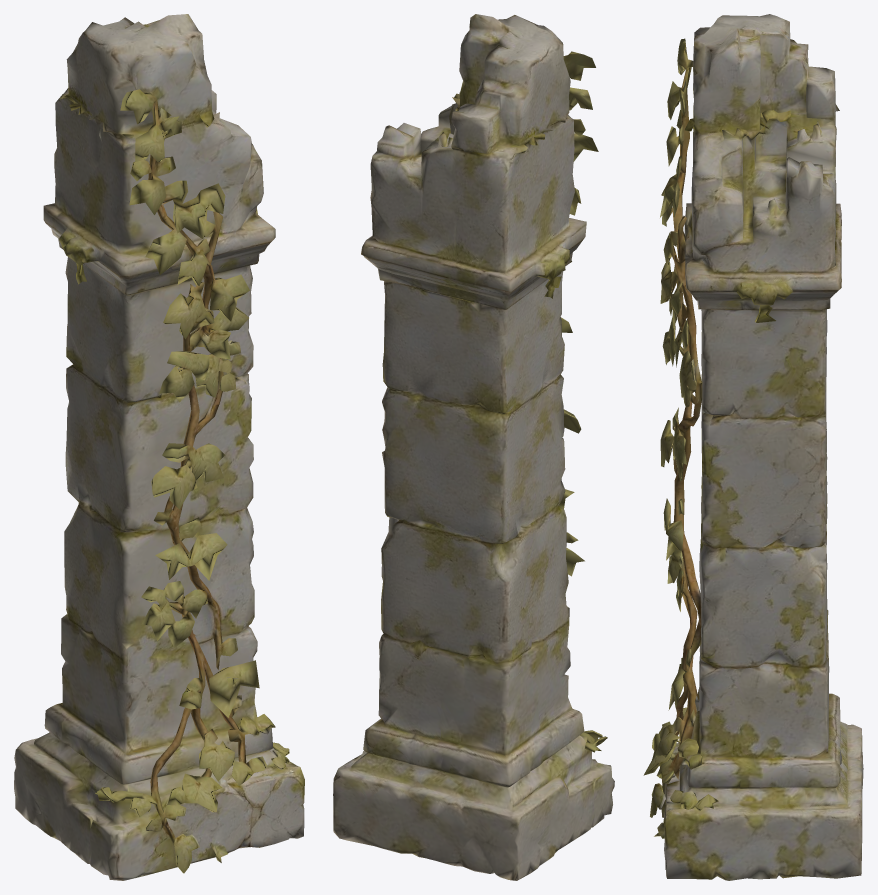
Rendered from ruin_pillar.glb.
3 renders of one model, left to right at view 1: azimuth 30°, elevation 25°; view 2: azimuth 150°, elevation 25°; view 3: azimuth 270°, elevation 25°, orthographic. The views are drawn at different scales.
Visible parts, largest first — view 1: tripo_node_4bf40b8d_78b9_4a25_800f_b9206729622a__stone; view 2: tripo_node_4bf40b8d_78b9_4a25_800f_b9206729622a__stone; view 3: tripo_node_4bf40b8d_78b9_4a25_800f_b9206729622a__stone.
Part boxes in pixels (x1,y1,x2,y2): tripo_node_4bf40b8d_78b9_4a25_800f_b9206729622a__stone: [14, 14, 304, 880]; tripo_node_4bf40b8d_78b9_4a25_800f_b9206729622a__stone: [333, 14, 614, 880]; tripo_node_4bf40b8d_78b9_4a25_800f_b9206729622a__stone: [643, 14, 863, 880].
Bounding box in the file's own units: 0.6236 × 2.5 × 0.6221.
1 material, 1 textured.
